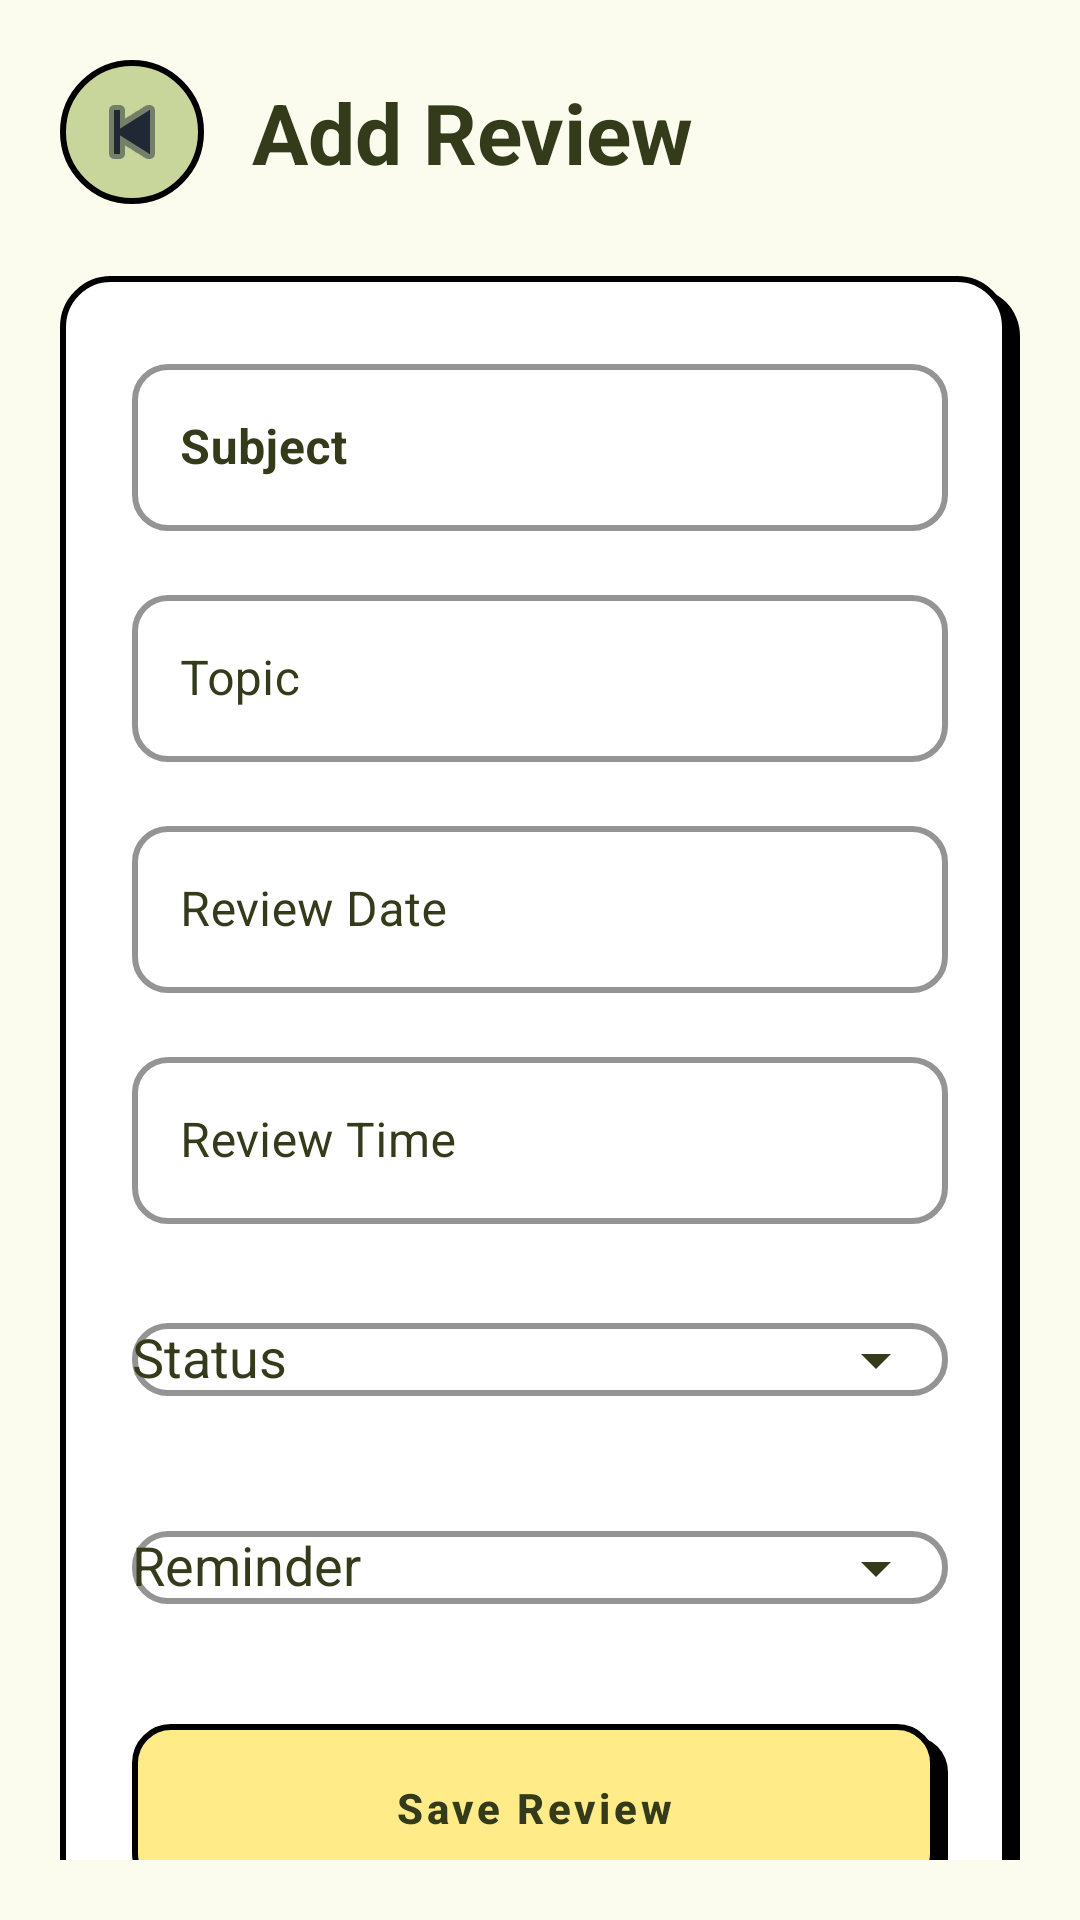

Icon click points for this 1080 x 1920 phone screenshot, format [x,y]:
Back: [132,132]
